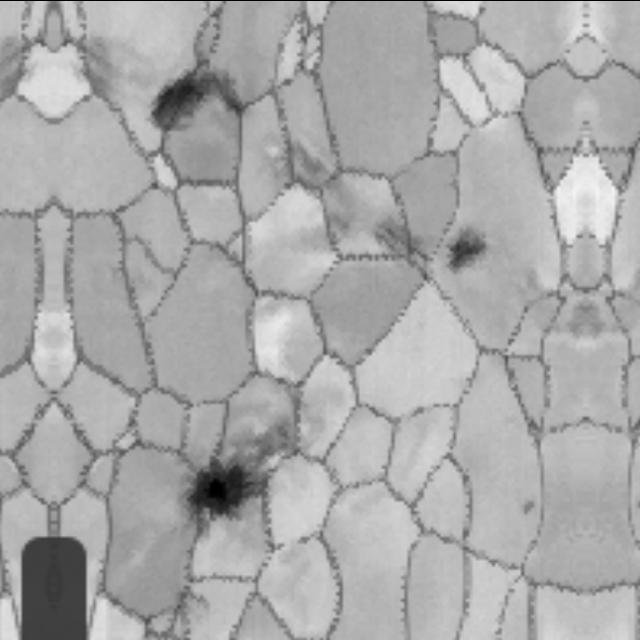good_void: (183, 398, 295, 529), (152, 56, 246, 138), (373, 215, 436, 290), (436, 223, 499, 274), (518, 493, 542, 517), (632, 496, 640, 512)
